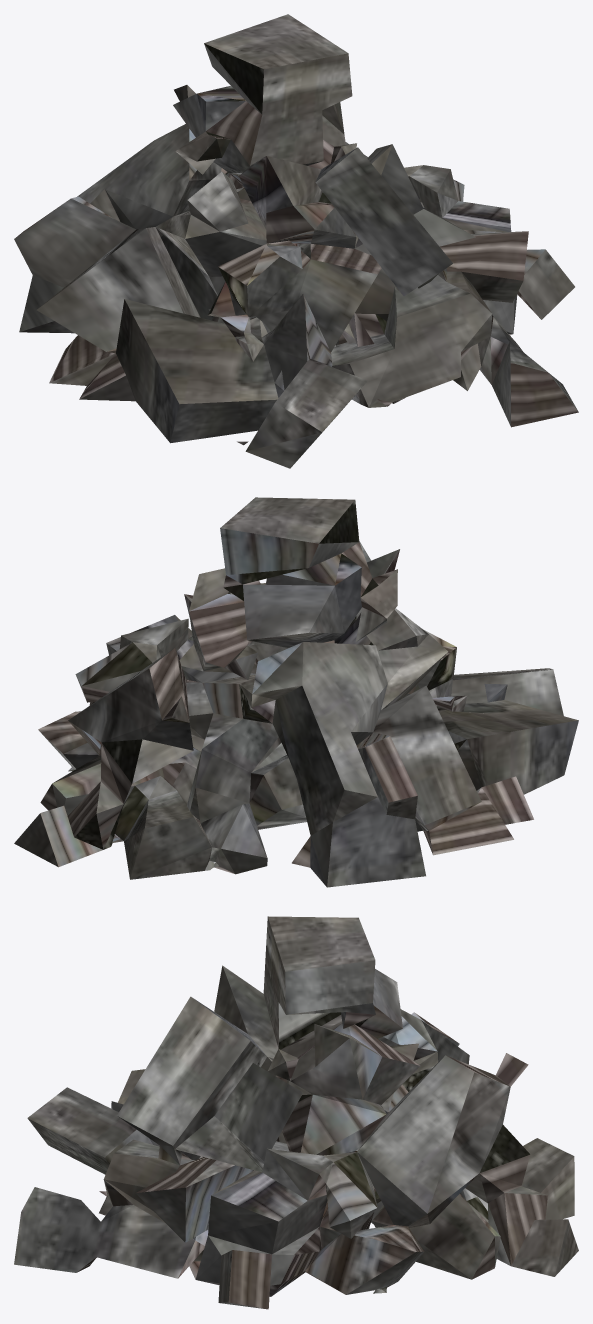
The model's file is rubble2.glb.
The picture shows the model from 3 angles, top to bottom: view 1: azimuth 30°, elevation 25°; view 2: azimuth 150°, elevation 25°; view 3: azimuth 270°, elevation 25°; orthographic projection. The views are drawn at different scales.
Size of the model in its own units: 4.23 by 2.47 by 4.64.
Materials: 1 (1 with a texture image).
